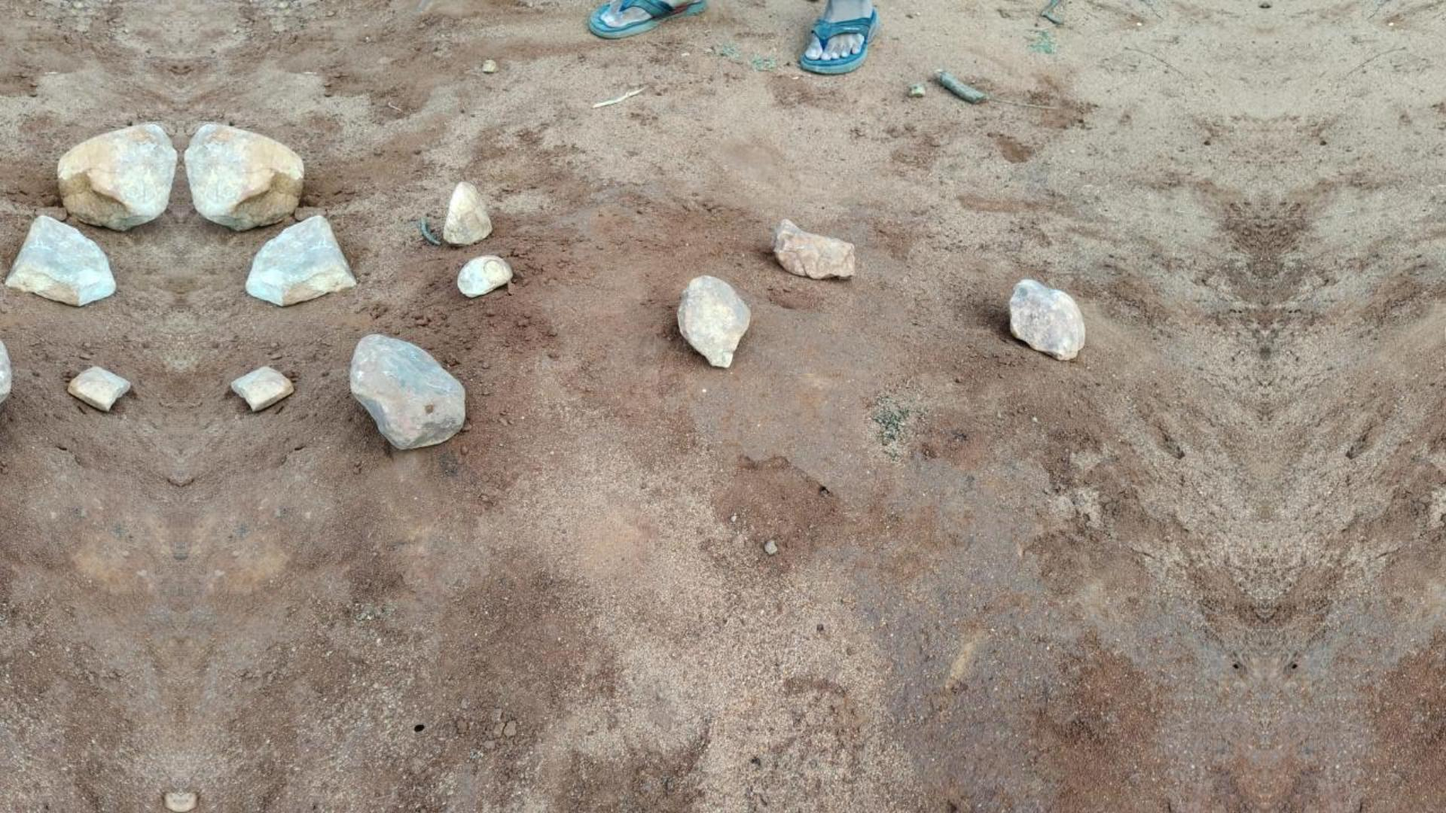rock: (350, 334, 464, 448), (184, 123, 303, 230), (58, 123, 176, 230), (245, 216, 356, 305), (5, 216, 115, 305), (678, 276, 749, 367), (1010, 279, 1084, 359), (772, 219, 854, 278), (443, 182, 491, 244), (67, 366, 130, 411), (230, 367, 294, 410), (458, 255, 512, 297), (0, 341, 11, 405), (1440, 294, 1445, 346), (1443, 356, 1445, 365)
